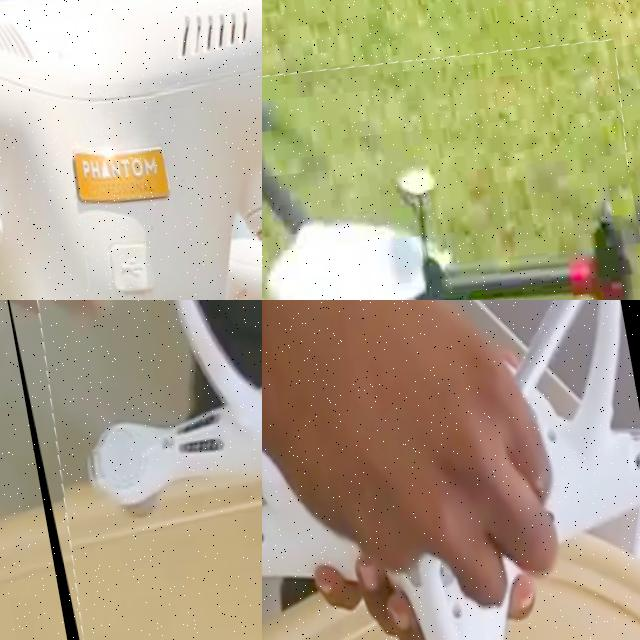drone: (262, 300, 640, 640), (262, 16, 640, 300), (0, 300, 262, 640), (0, 0, 262, 300)
